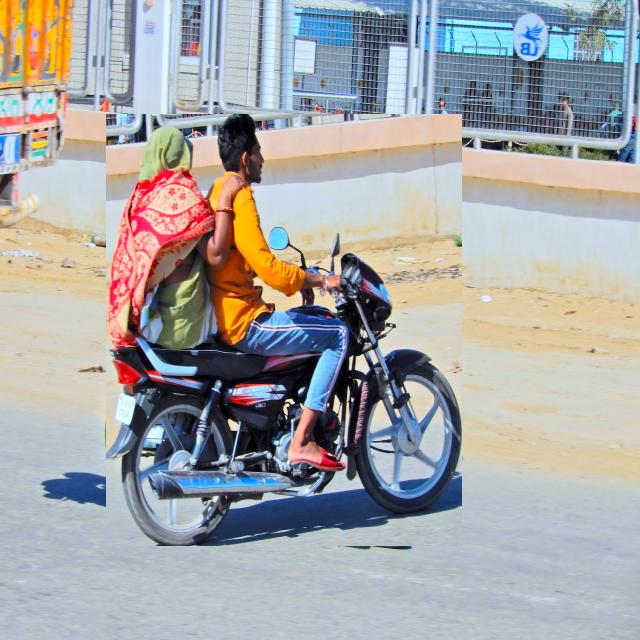motorcycle: (106, 115, 461, 546)
